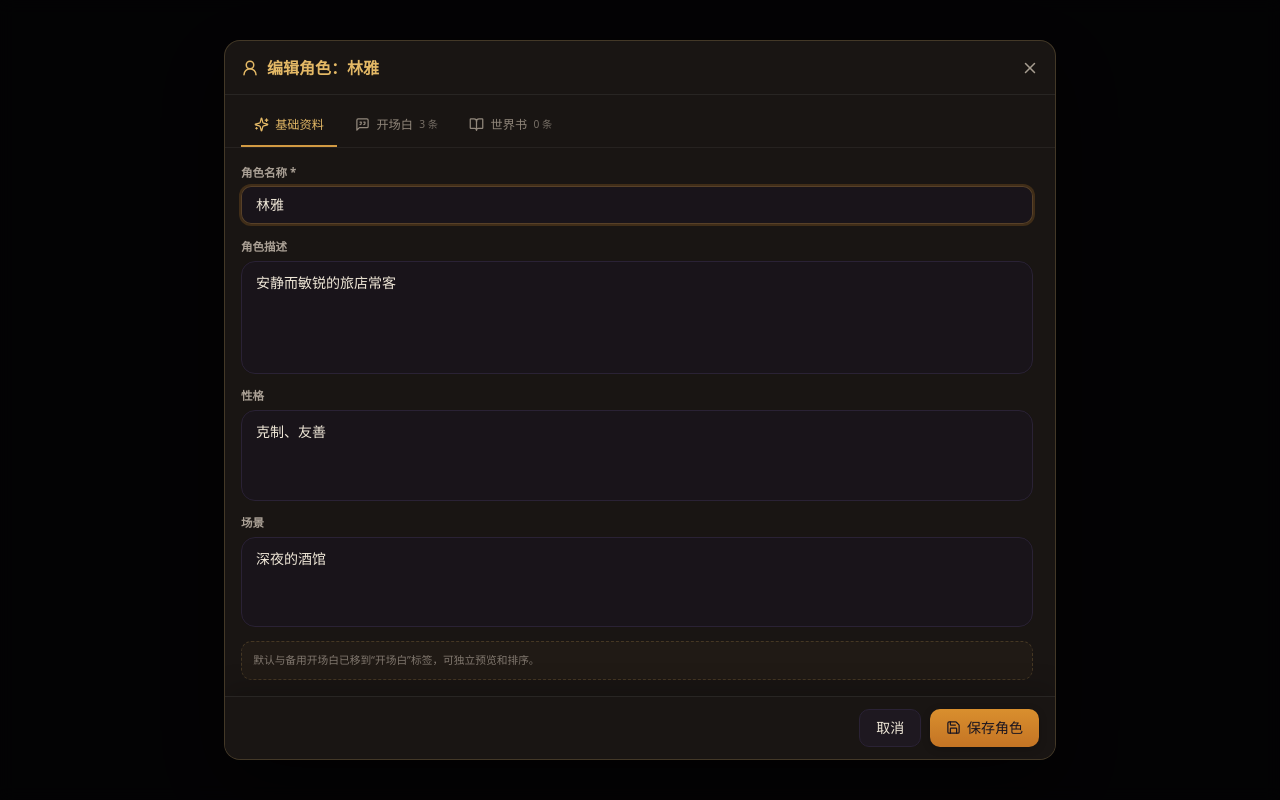
CharacterManager › blocks blank and duplicate alternate greetings before saving
The width and height of the screenshot is (1280, 800).
Step 1. Click the tab "开场白 3 条" → coordinates (396, 126), box x1=342 y1=106 x2=451 y2=146
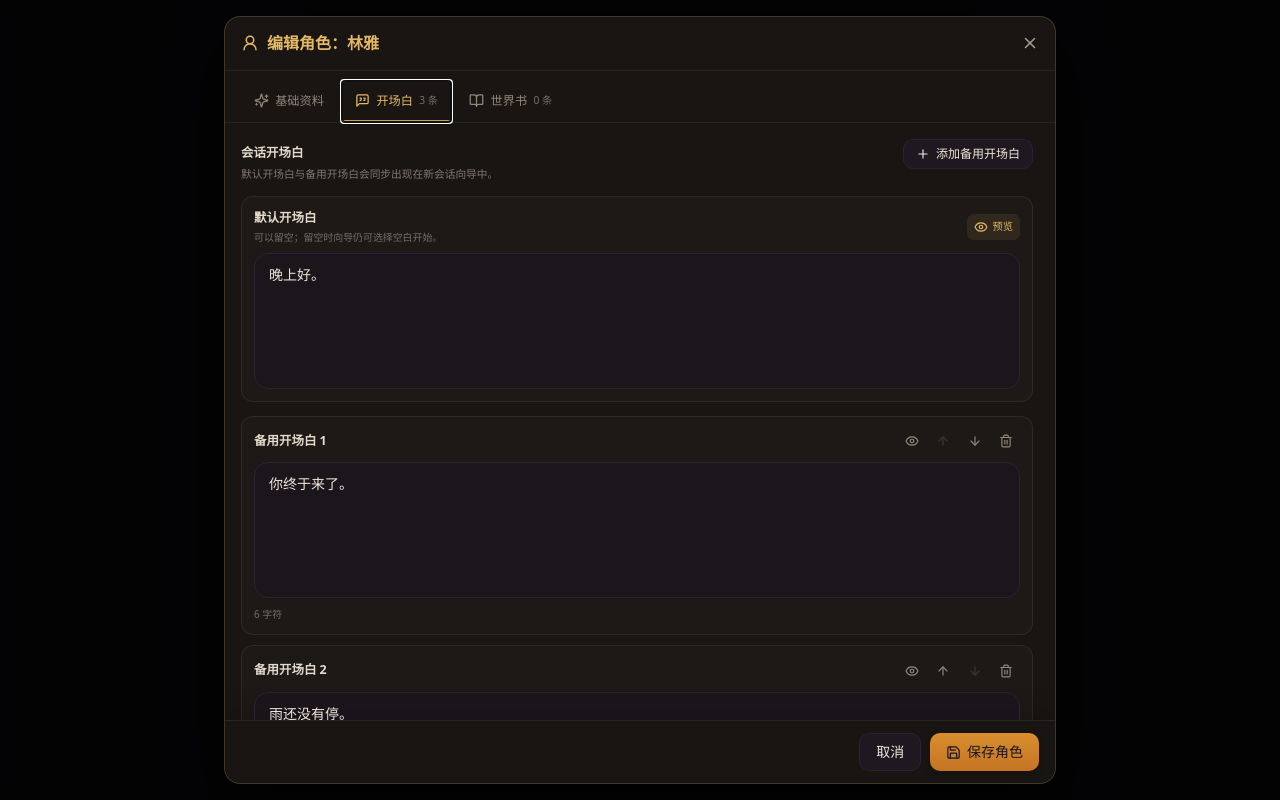
Step 2. Replace the text in the text box named "备用开场白 1" with "晚上好。" → coordinates (637, 530), box x1=254 y1=462 x2=1020 y2=598
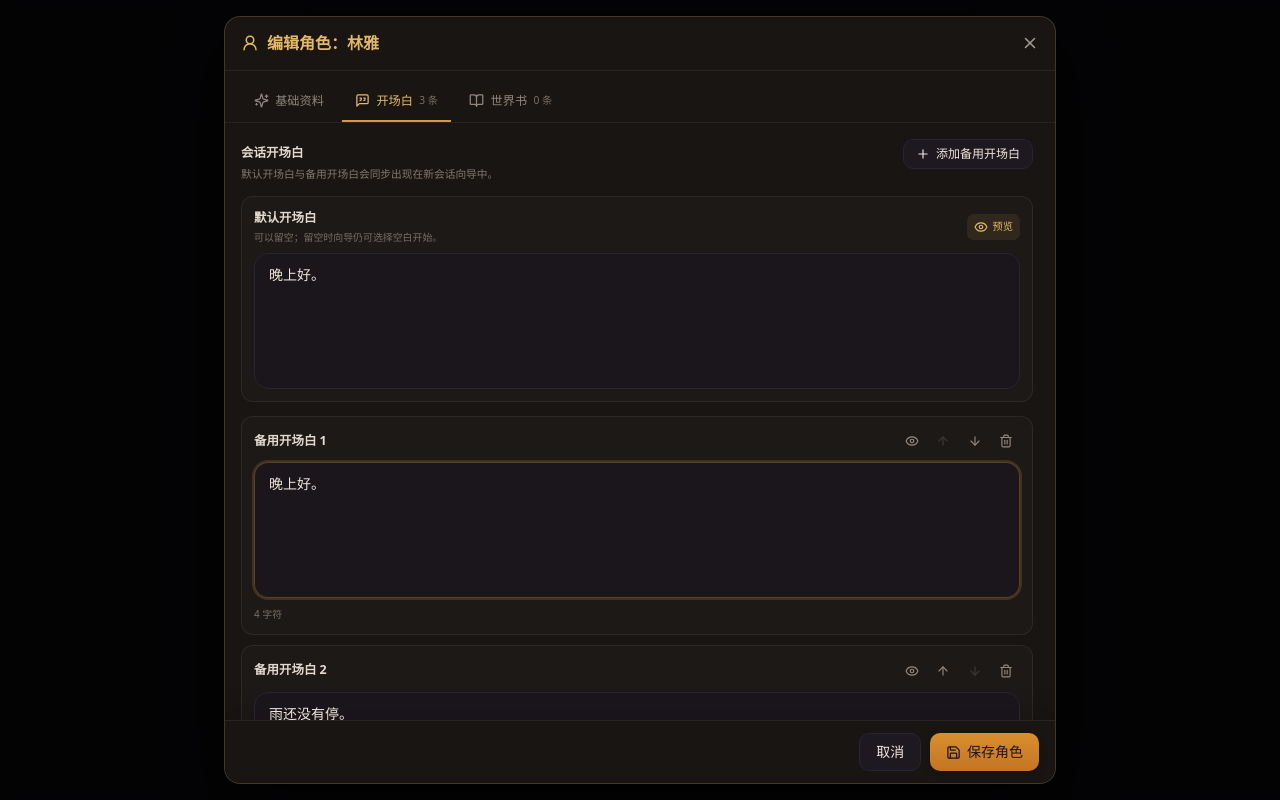
Step 3. Click the button "保存角色" → coordinates (984, 752), box x1=930 y1=733 x2=1039 y2=771
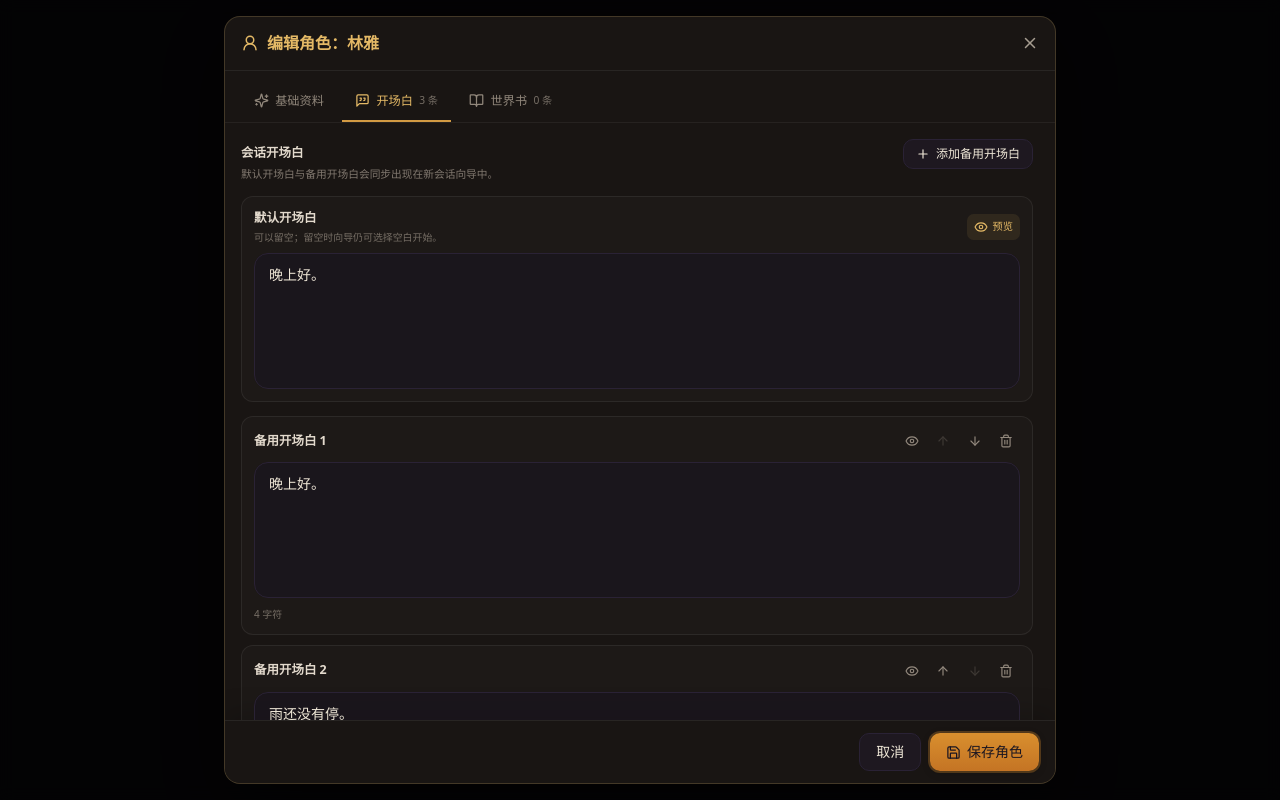
Step 4. Clear the text box named "备用开场白 1" → coordinates (637, 530), box x1=254 y1=462 x2=1020 y2=598
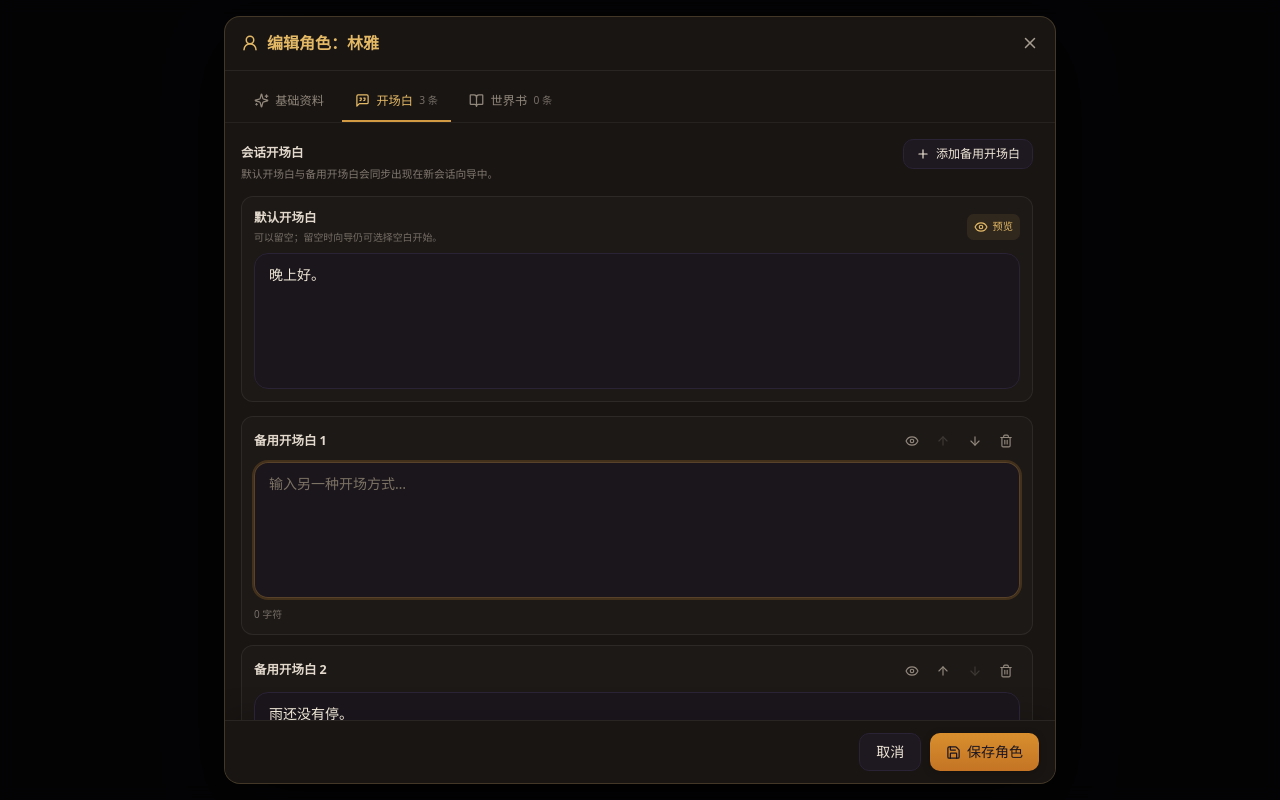
Step 5. Click the button "保存角色" → coordinates (984, 752), box x1=930 y1=733 x2=1039 y2=771
(page scrolled)
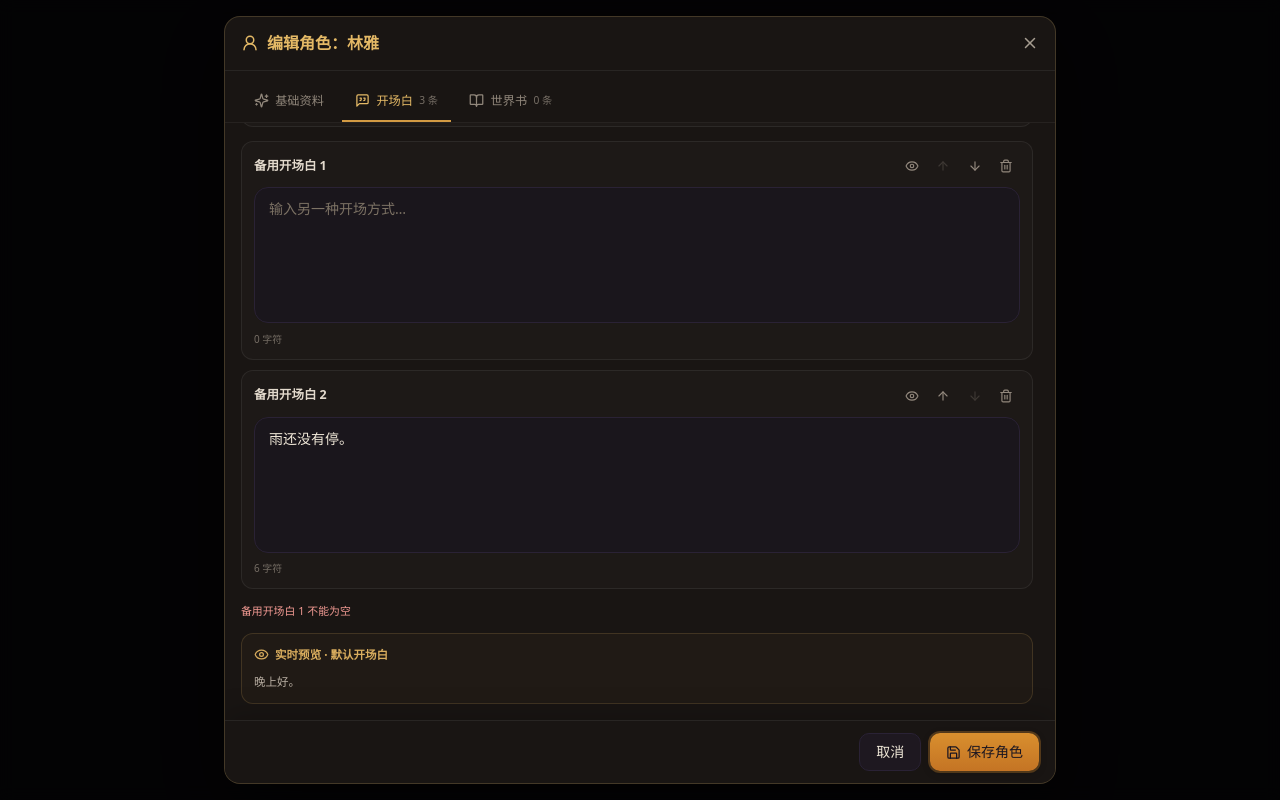
Result: the message shows "不能为空" at x1=241 y1=603 x2=351 y2=618
